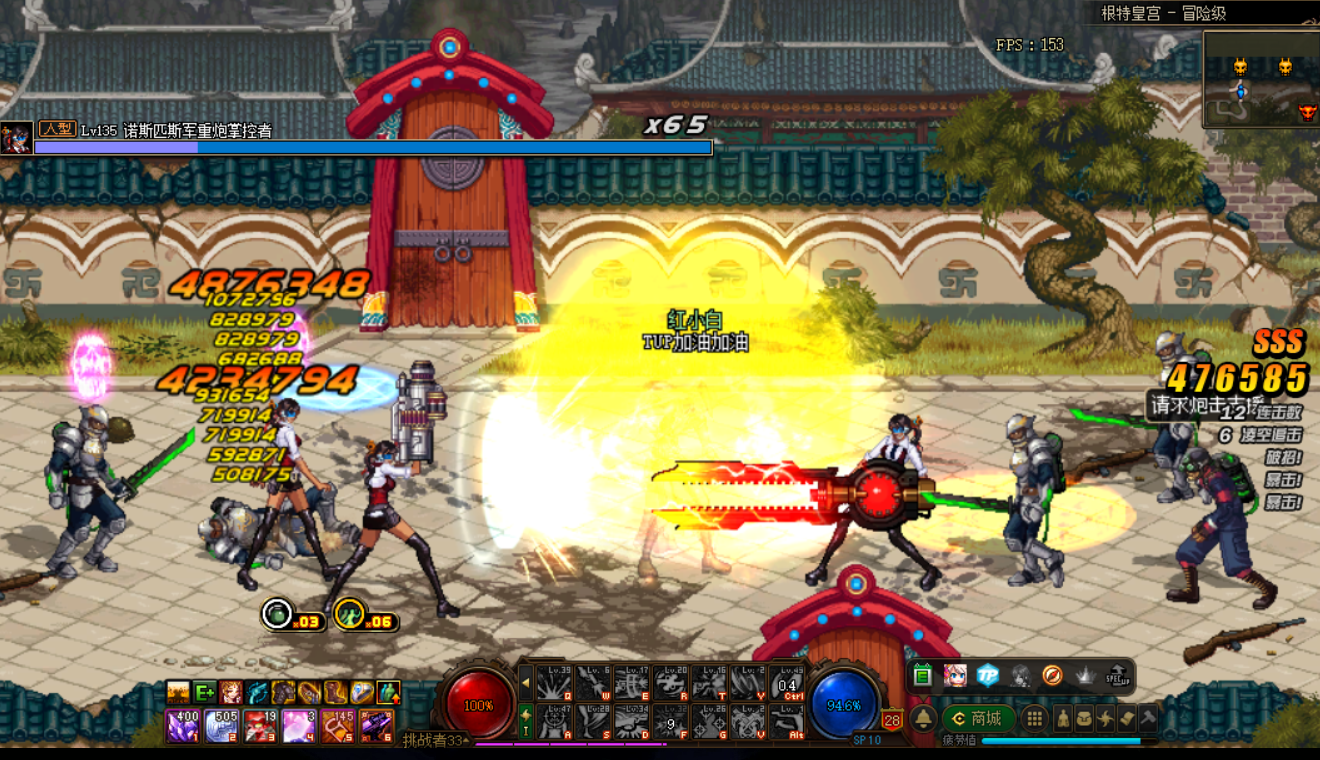monster: (647, 405, 958, 603), (342, 367, 466, 629), (956, 378, 1081, 597), (1126, 436, 1274, 616), (1100, 324, 1233, 518), (214, 385, 335, 598), (53, 402, 193, 586)
warrior: (628, 359, 741, 598)
